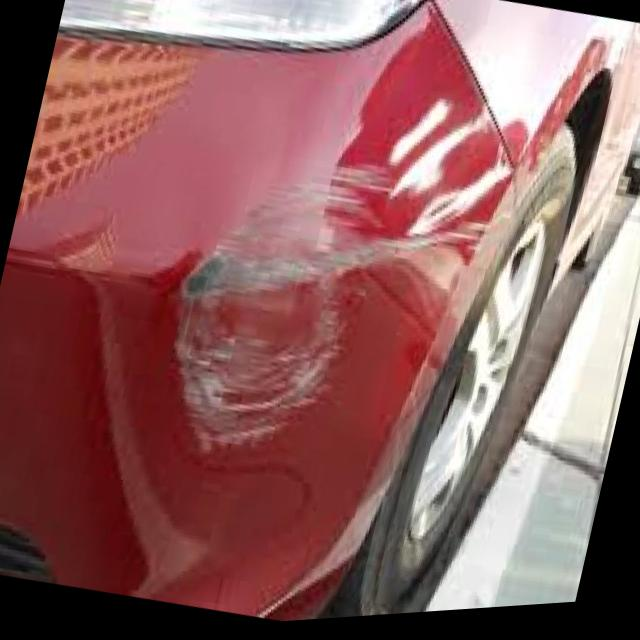Scratch: (125, 129, 366, 480)
